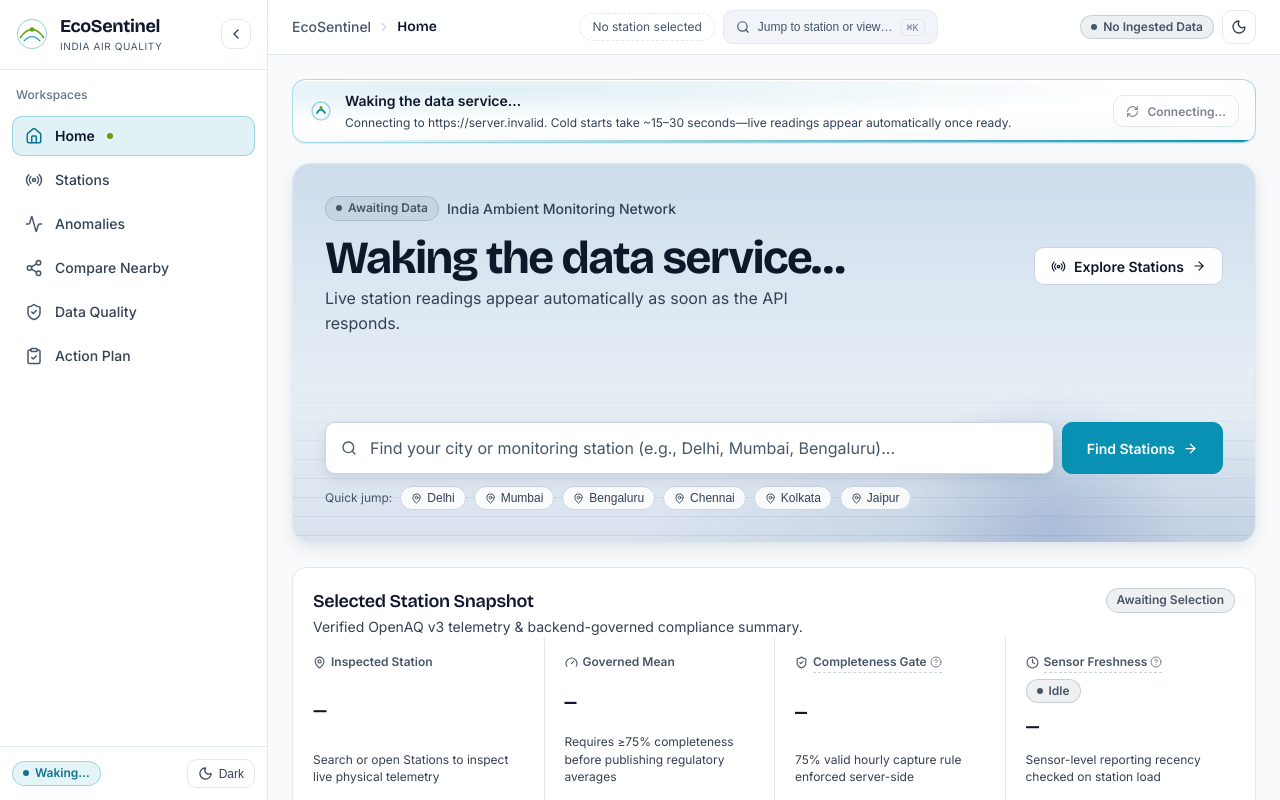
Scenario: Day 2 Frontend Consistency & UX Requirements › Requirement 4: fetches telemetry data when user navigates to the Stations route
// Navigate to Stations view via sidebar
Click the link "Stations": (67, 180) x1=25 y1=171 x2=110 y2=189
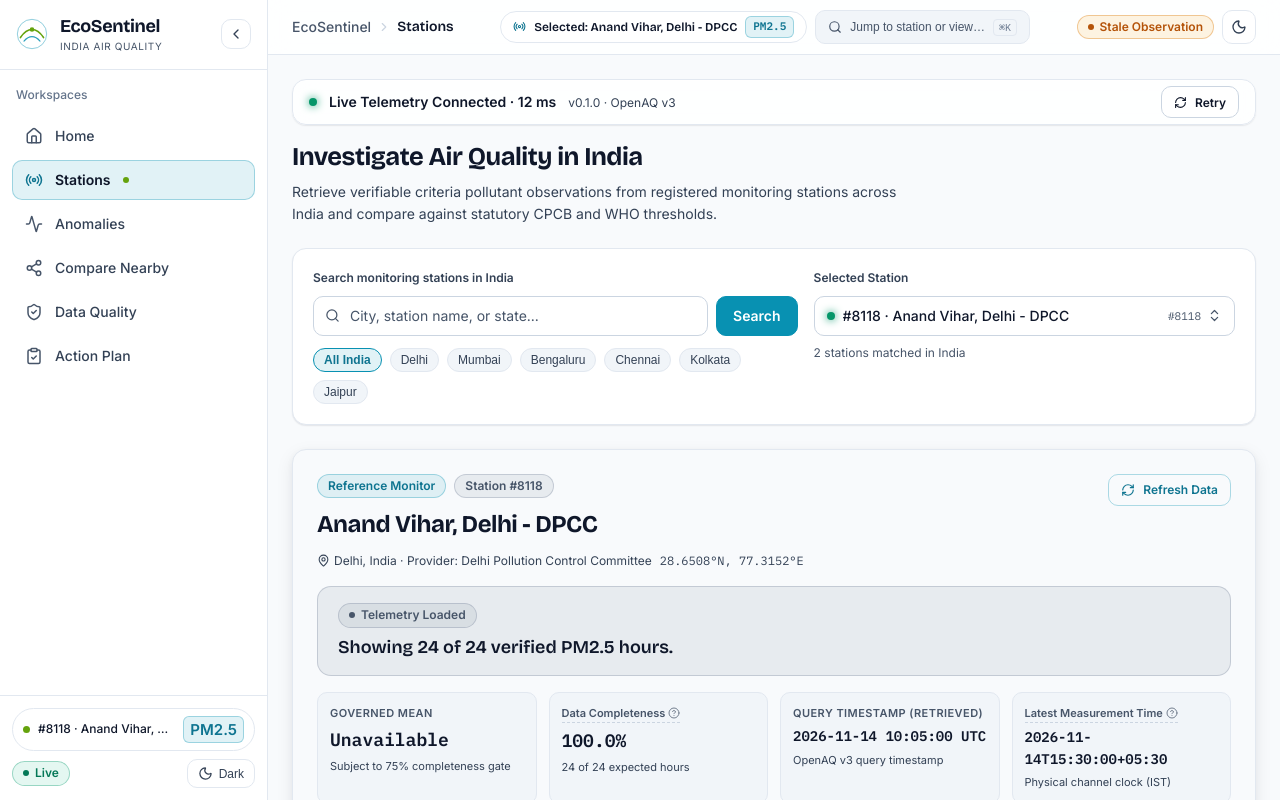
Expected: the heading "Anand Vihar, Delhi - DPCC" is shown, x1=317 y1=510 x2=598 y2=538
